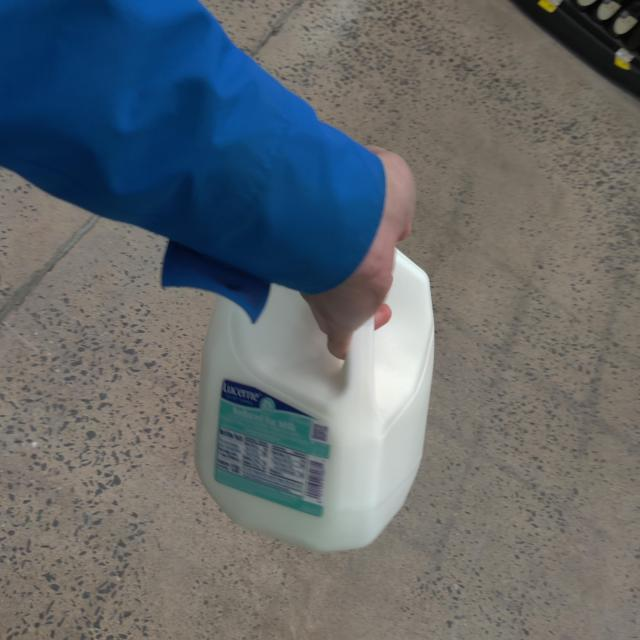Milk: (197, 220, 436, 550)
